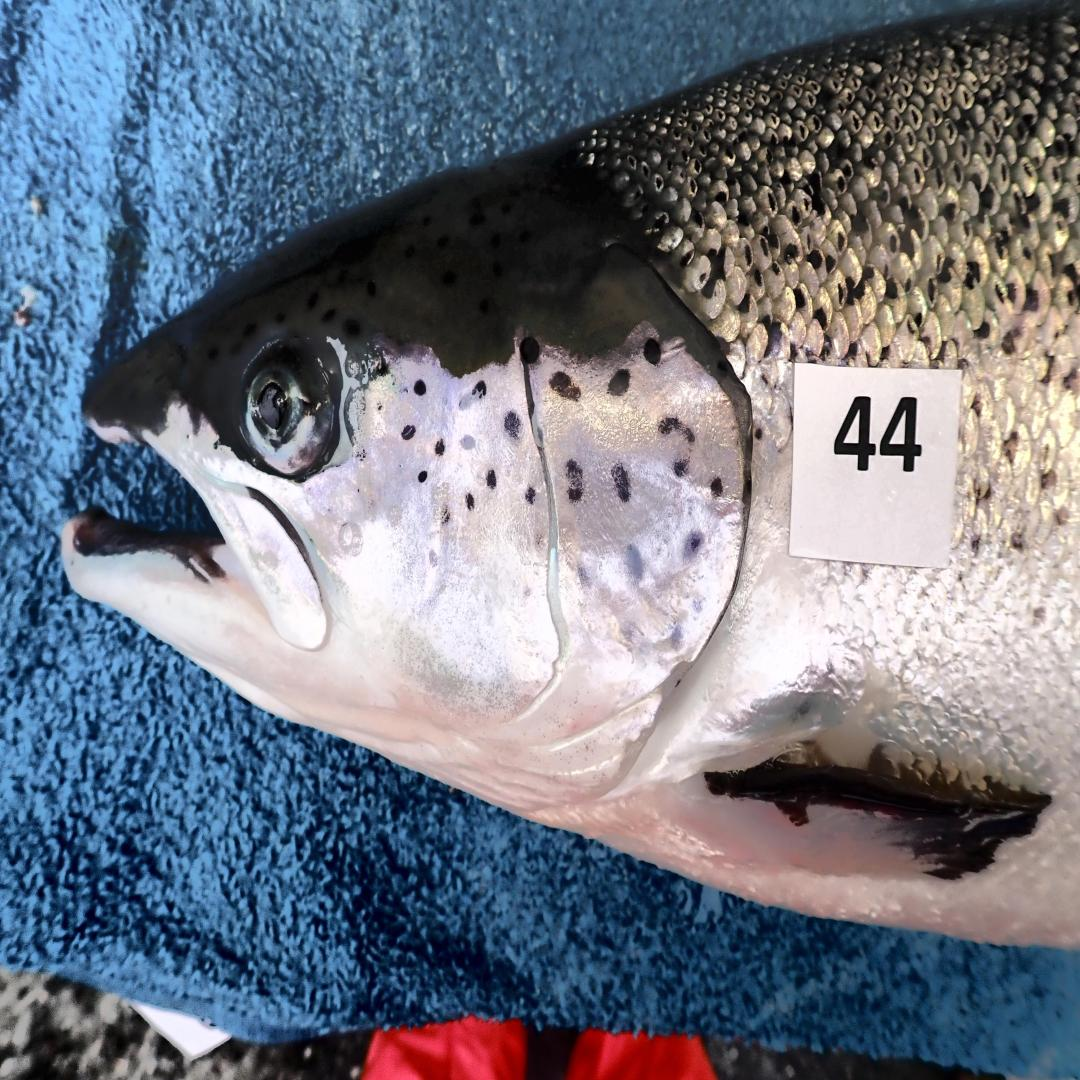spot: (658, 413, 696, 444), (551, 371, 580, 402), (565, 458, 584, 503), (460, 380, 487, 411), (681, 529, 705, 562), (612, 464, 631, 503), (624, 546, 643, 582), (608, 368, 631, 397), (519, 335, 540, 366), (643, 338, 662, 366), (504, 411, 521, 439), (576, 562, 593, 588), (669, 624, 683, 650), (673, 458, 688, 478), (711, 475, 724, 498), (460, 433, 477, 450), (485, 470, 498, 489), (413, 380, 426, 397), (401, 425, 416, 439), (441, 506, 451, 526), (525, 487, 536, 503), (435, 439, 445, 456), (466, 492, 475, 509), (418, 470, 428, 484), (378, 404, 383, 411)
